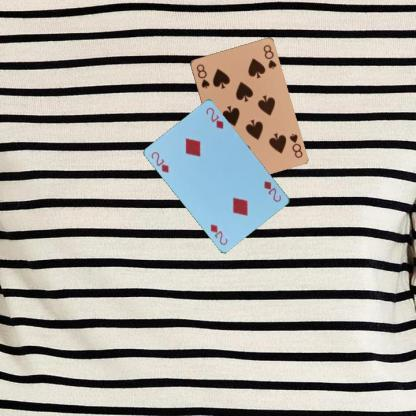2d: (148, 149, 171, 174), (262, 178, 282, 203)
8s: (286, 130, 304, 159), (194, 61, 210, 90)
